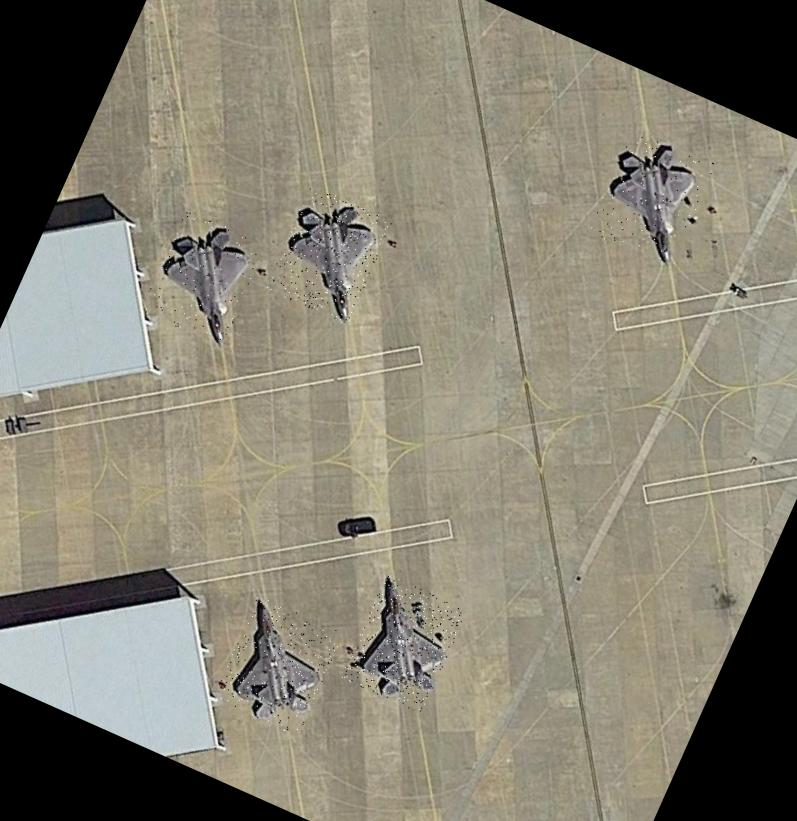A15: (210, 594, 343, 736), (586, 126, 715, 268), (264, 183, 393, 324), (340, 573, 468, 713), (140, 208, 267, 346)
